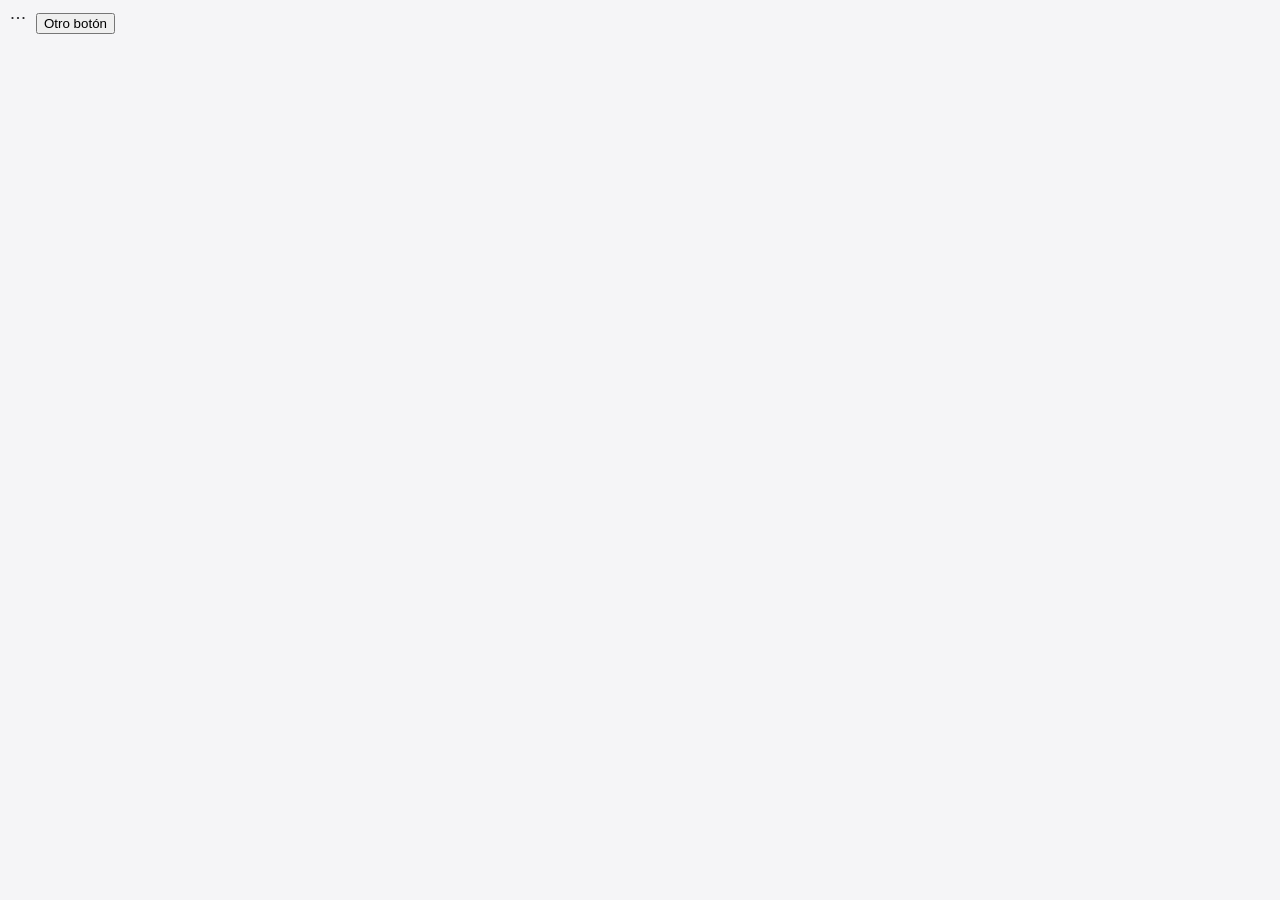
Test case: menú «Más acciones» › con Intro en la entrada abre el diálogo y, al cerrarlo con Esc, el foco vuelve al botón del menú
The width and height of the screenshot is (1280, 900).
Step 1. Click the button named "Más acciones" → (18, 18), box [0,0,36,36]
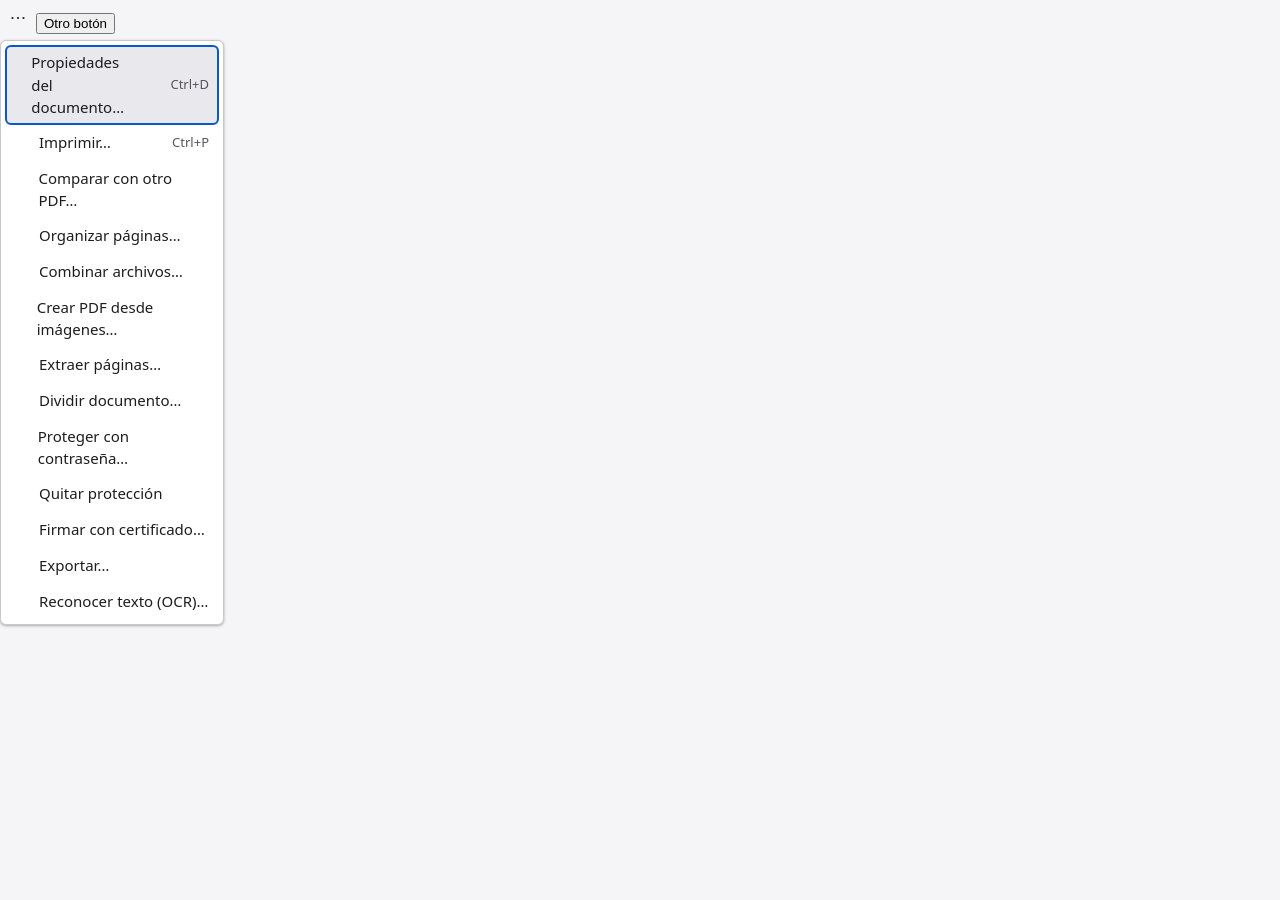
Step 2. Press Enter
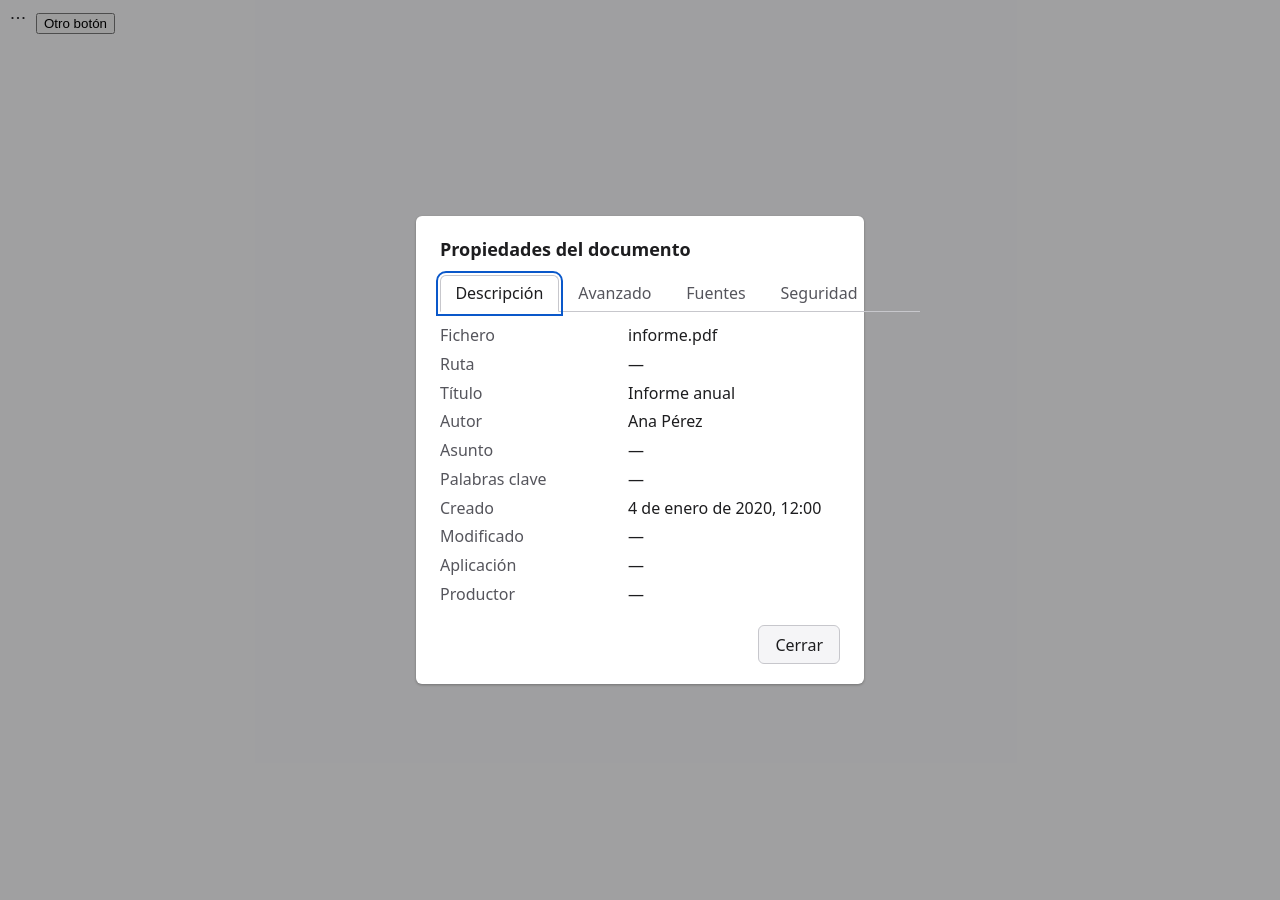
Result: the dialog "Propiedades del documento" is shown at [416,216,864,684]
Step 3. Press Escape
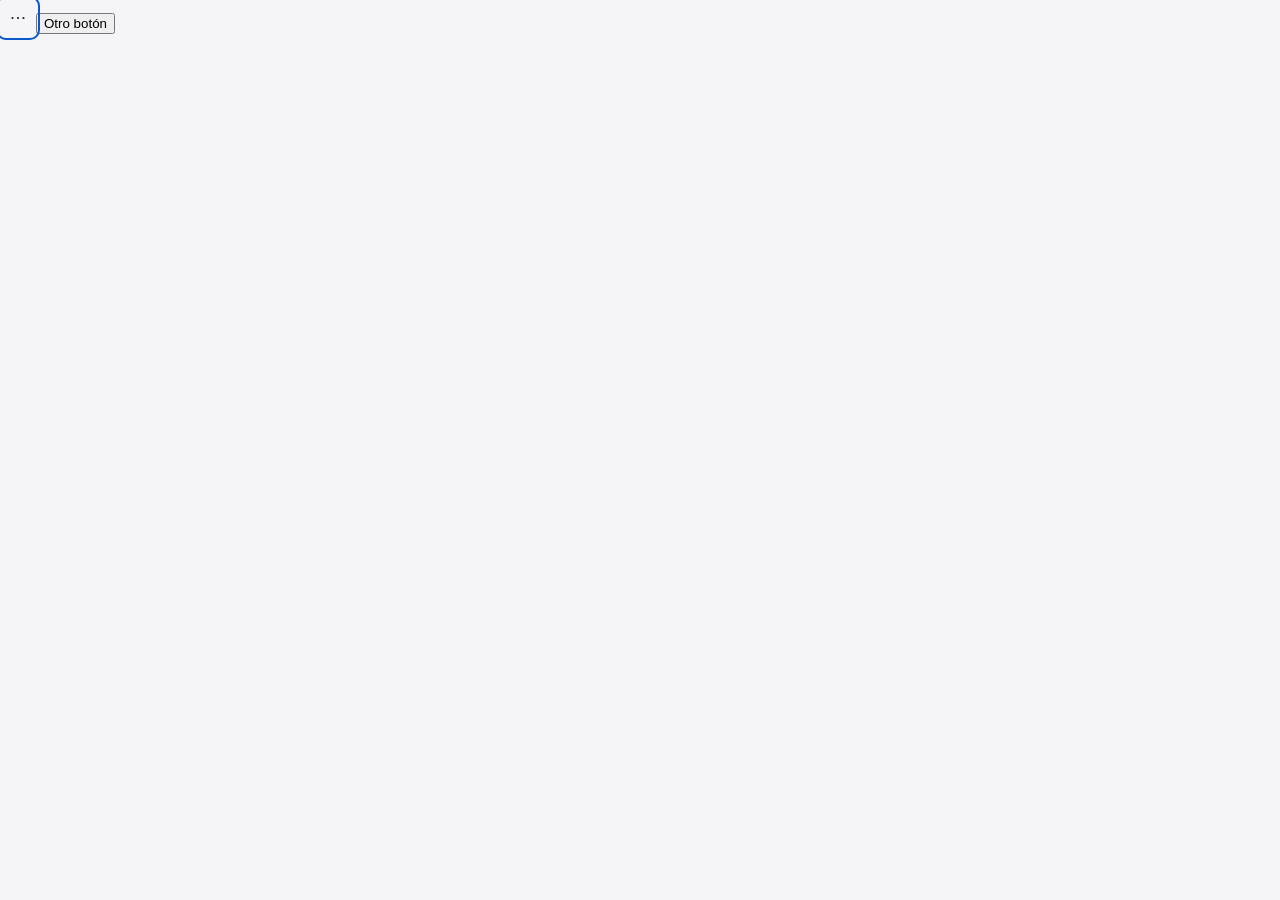
Result: the dialog is gone
